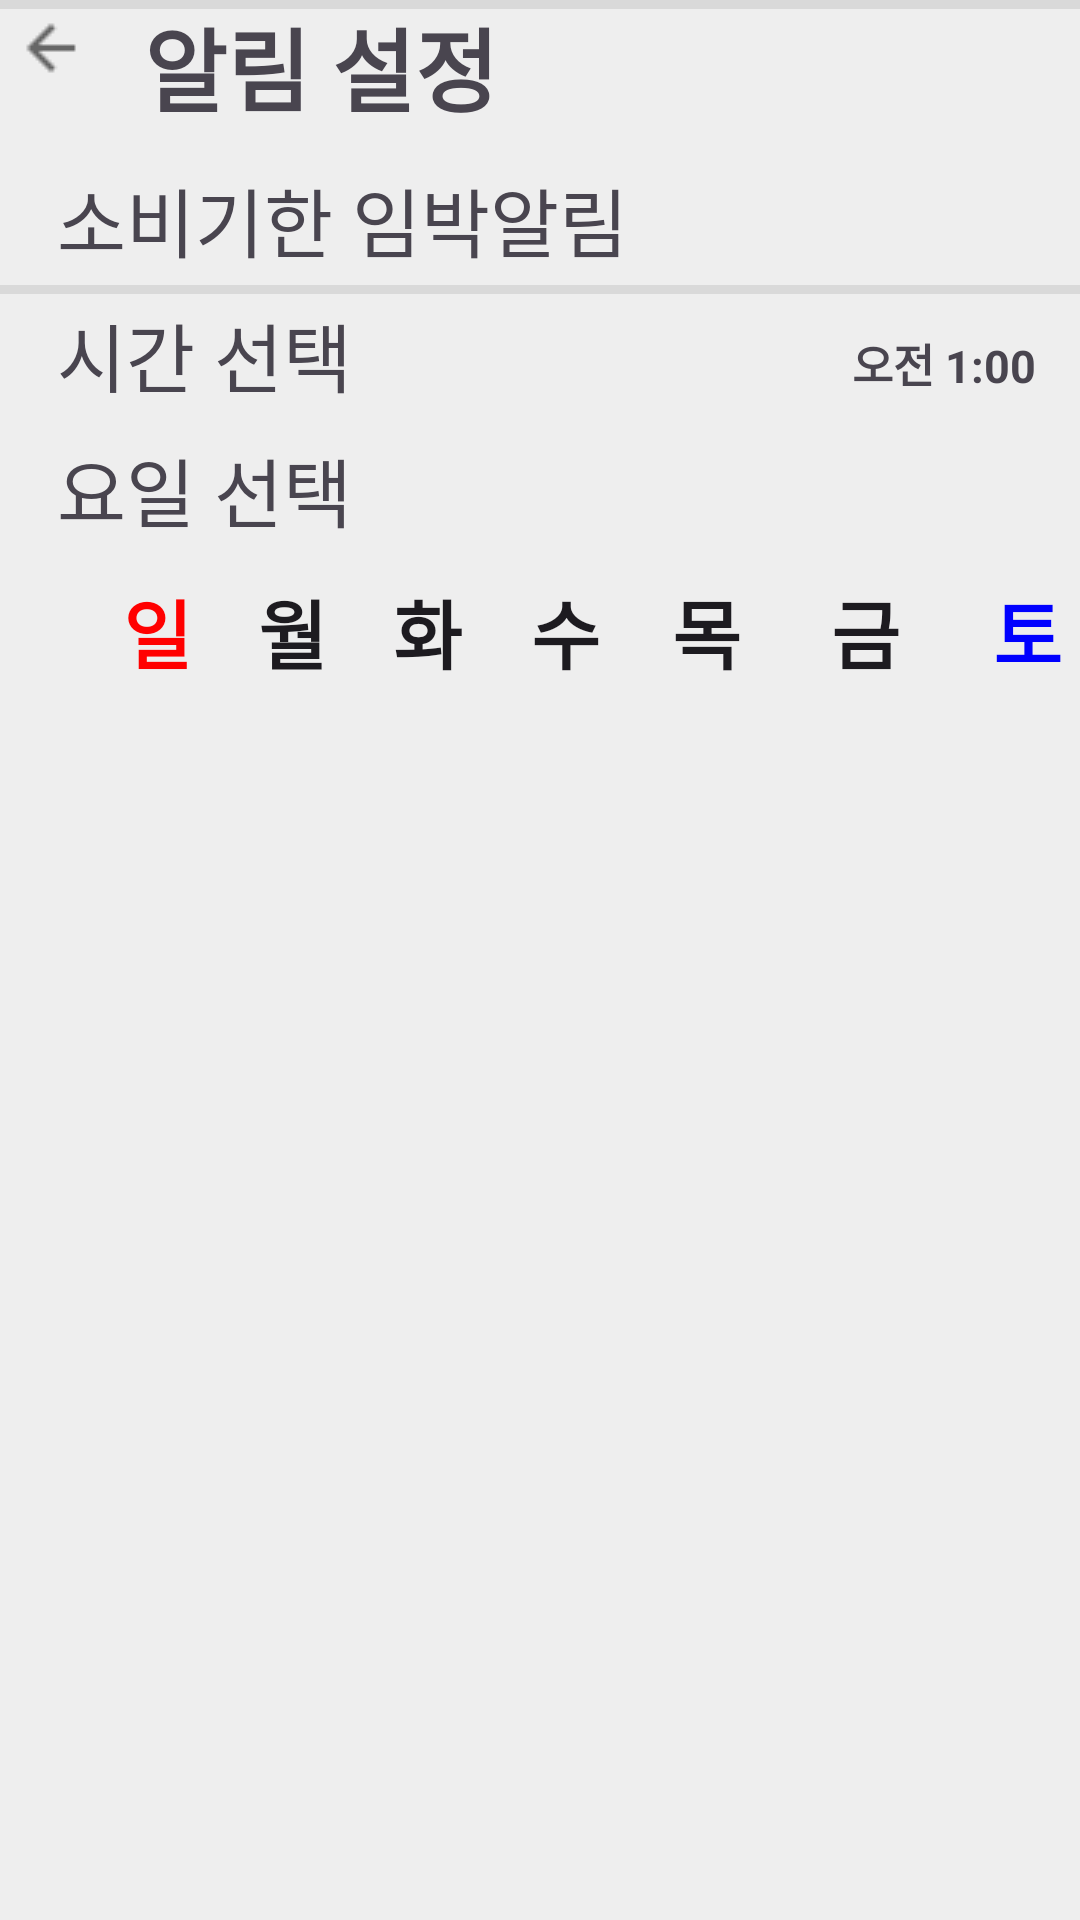

Icon bounding boxes for this 1080px×1920px phone screenshot, format (x1, y1, x2, y2):
arrow back: (27, 24, 76, 72)
